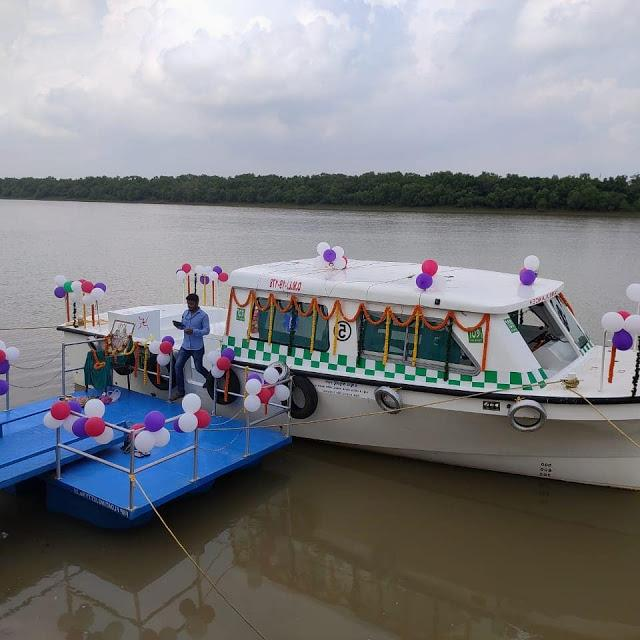ambulance: (227, 244, 635, 385)
